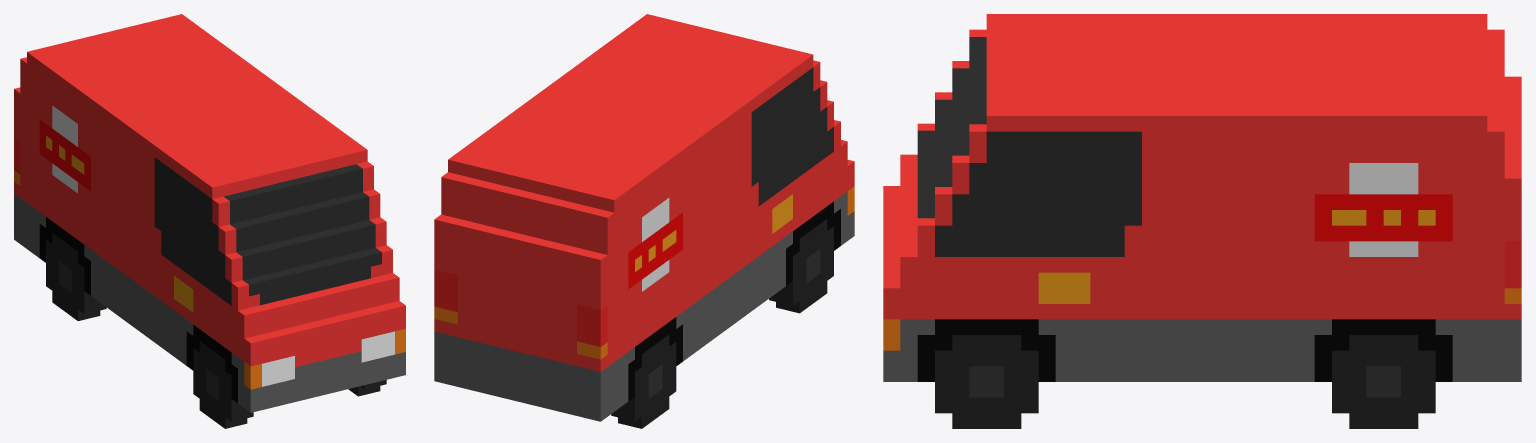
The model's file is kit-voxel-vans-van-style4-red.glb.
3 renders of one model, left to right at view 1: azimuth 30°, elevation 25°; view 2: azimuth 150°, elevation 25°; view 3: azimuth 270°, elevation 25°, orthographic. The views are drawn at different scales.
Visible parts, largest first — view 1: geometry_1; view 2: geometry_1; view 3: geometry_1.
Part boxes in pixels (x1=…): geometry_1: x1=14, y1=14, x2=405, y2=428; geometry_1: x1=434, y1=14, x2=854, y2=428; geometry_1: x1=883, y1=14, x2=1521, y2=428.
Bounding box in the file's own units: 1.4 × 2 × 3.7.
Materials: 1 (1 with a texture image).
